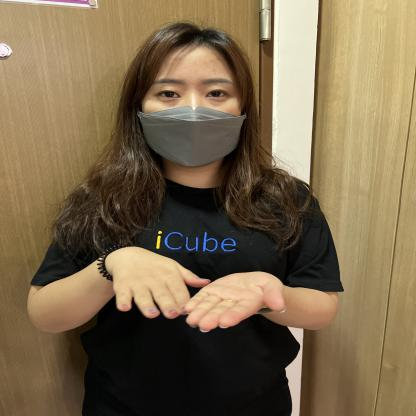Love: (46, 224, 312, 340)
